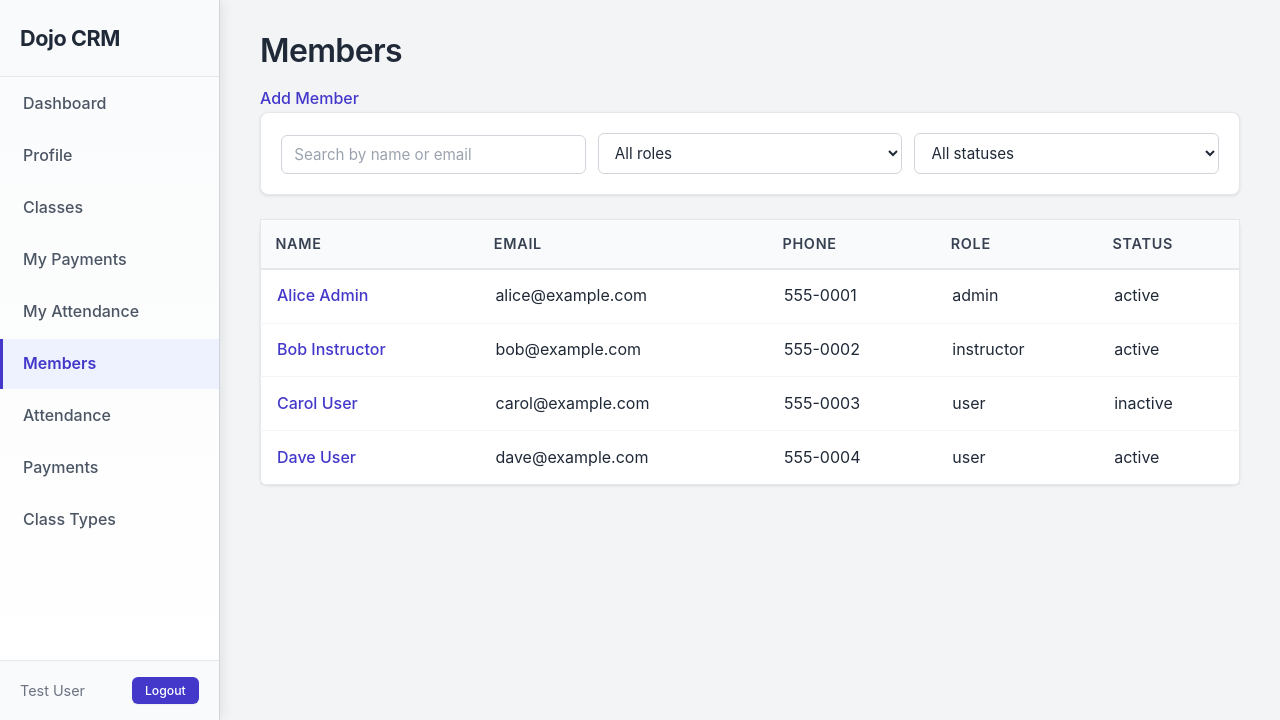
Scenario: Members › filters by role
Check: the link "Alice Admin" is shown, box [277, 285, 368, 305]
Select "user" in the dropdown named "Filter by role" at x=750, y=154, box [598, 133, 902, 174]
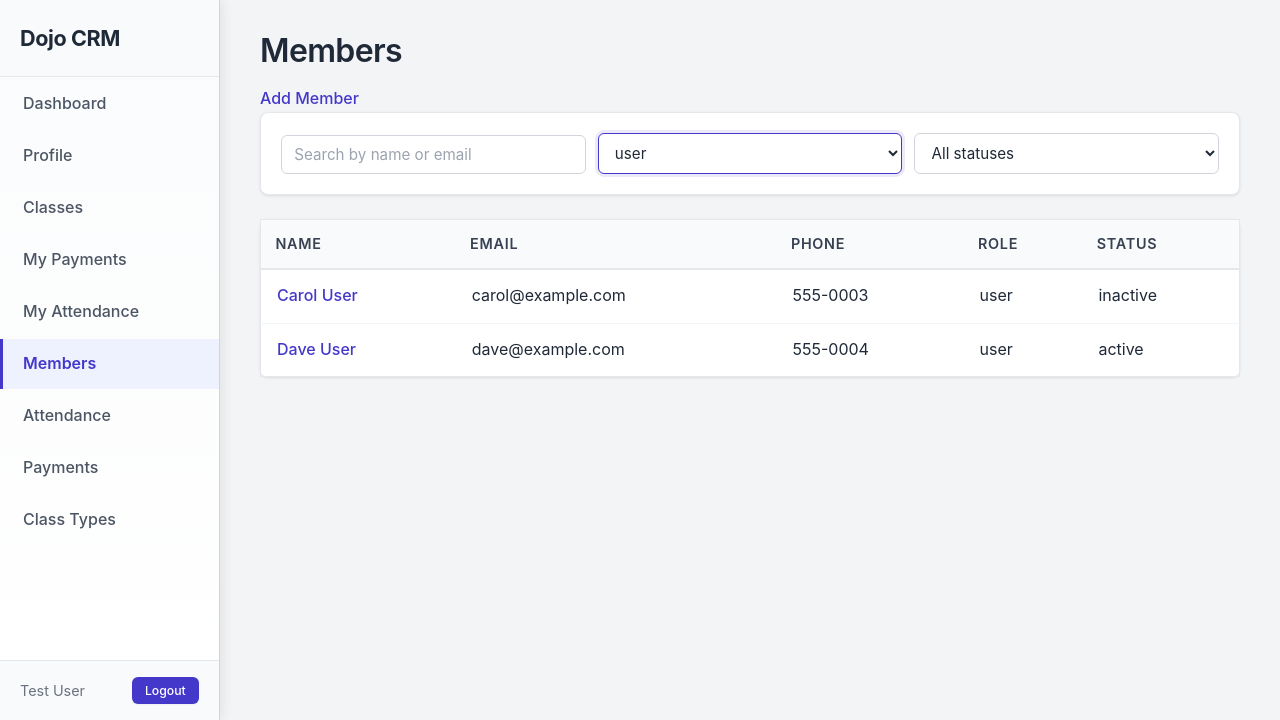
Check: the link "Carol User" is shown, box [277, 285, 358, 305]
Check: the link "Alice Admin" is gone
Check: the link "Bob Instructor" is gone
